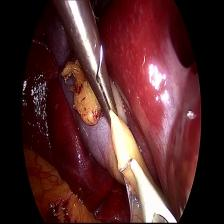Grasper: (64, 1, 122, 129)
Hook: (118, 155, 185, 224)
